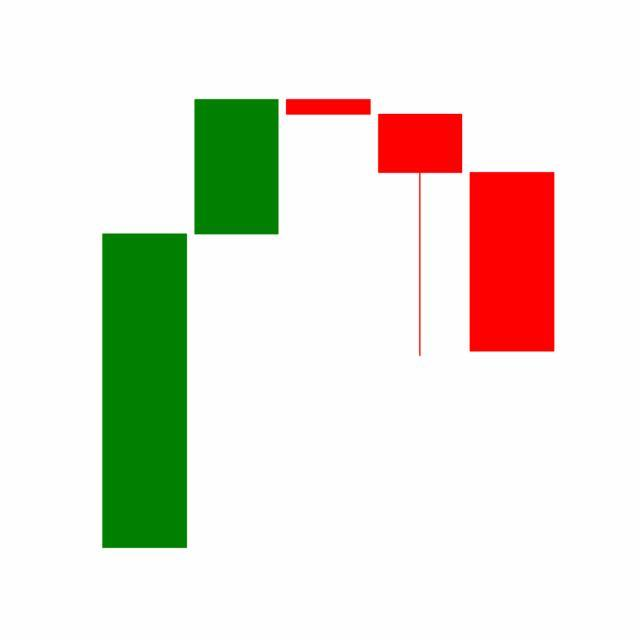Marubozu: (466, 170, 559, 354)
